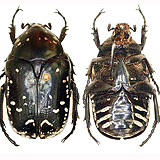Protaetia_funebris: (1, 2, 80, 154)
